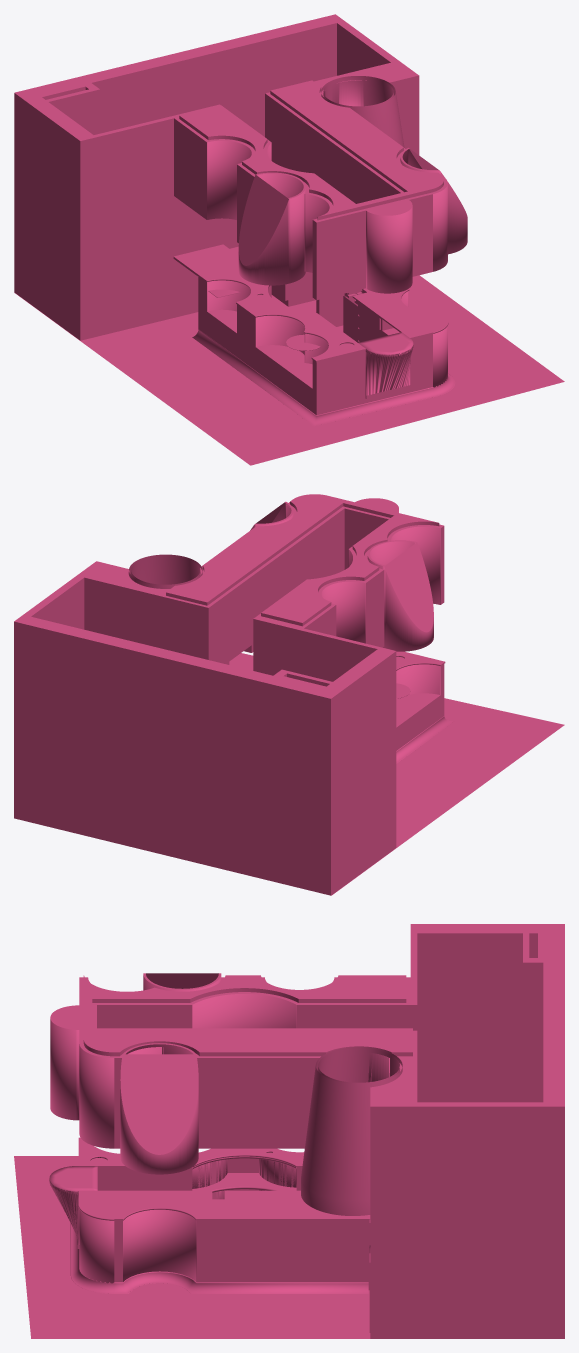
File: asset.glb
The picture shows the model from 3 angles, top to bottom: view 1: azimuth 30°, elevation 25°; view 2: azimuth 150°, elevation 25°; view 3: azimuth 270°, elevation 25°; orthographic projection. The views are drawn at different scales.
Parts seen in each view (by area): view 1: MC_Structure, G-__556320, Sketchup, G-__556257, G-__556347, G-__556275, G-__556311, G-__556356, G-__556365, G-__556284, G-__556302, G-__556338 (+1 smaller); view 2: MC_Structure, G-__556320, Sketchup, G-__556275, G-__556257, G-__556338, G-__556347, G-__556365, G-__556356, G-__556311, G-__556266; view 3: MC_Structure, G-__556320, Sketchup, G-__556347, G-__556365, G-__556266, G-__556311, G-__556302, G-__556356, G-__556284, G-__556338, G-__556275 (+1 smaller).
Boxes of the visible parts, bbox=[...] form: MC_Structure: bbox=[14, 14, 419, 340]; G-__556320: bbox=[174, 80, 447, 300]; Sketchup: bbox=[14, 200, 564, 465]; G-__556257: bbox=[94, 104, 222, 336]; G-__556347: bbox=[198, 276, 447, 415]; G-__556275: bbox=[238, 172, 305, 285]; G-__556311: bbox=[173, 244, 448, 362]; G-__556356: bbox=[192, 329, 455, 426]; G-__556365: bbox=[321, 76, 404, 147]; G-__556284: bbox=[358, 332, 413, 398]; G-__556302: bbox=[258, 272, 399, 347]; G-__556338: bbox=[314, 62, 411, 149]; MC_Structure: bbox=[14, 561, 396, 895]; G-__556320: bbox=[161, 494, 444, 664]; Sketchup: bbox=[229, 498, 564, 895]; G-__556275: bbox=[367, 540, 433, 651]; G-__556257: bbox=[253, 617, 379, 681]; G-__556338: bbox=[84, 563, 169, 648]; G-__556347: bbox=[396, 664, 444, 750]; G-__556365: bbox=[128, 554, 202, 588]; G-__556356: bbox=[396, 716, 453, 763]; G-__556311: bbox=[246, 651, 445, 670]; G-__556266: bbox=[250, 501, 293, 530]; MC_Structure: bbox=[370, 924, 564, 1338]; G-__556320: bbox=[79, 975, 417, 1148]; Sketchup: bbox=[14, 1005, 370, 1338]; G-__556347: bbox=[79, 1159, 369, 1290]; G-__556365: bbox=[301, 1047, 402, 1215]; G-__556266: bbox=[120, 1043, 198, 1174]; G-__556311: bbox=[78, 1137, 370, 1220]; G-__556302: bbox=[90, 1152, 302, 1199]; G-__556356: bbox=[70, 1223, 368, 1293]; G-__556284: bbox=[49, 1166, 97, 1248]; G-__556338: bbox=[370, 1058, 417, 1102]; G-__556275: bbox=[143, 973, 221, 991].
Size of the model in its own units: 4.98 by 3 by 6.34.
